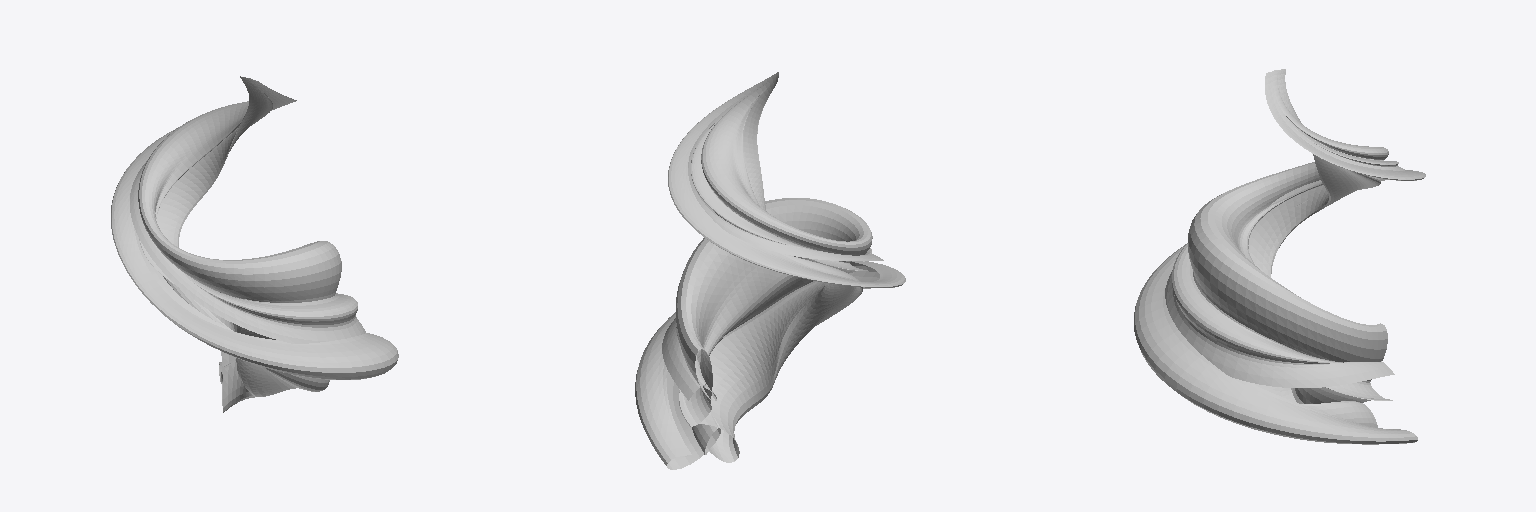
The picture shows the model from 3 angles: view 1: azimuth 30°, elevation 25°; view 2: azimuth 150°, elevation 25°; view 3: azimuth 270°, elevation 25°; orthographic projection.
Visible parts, largest first — view 1: SuperShapesMesh; view 2: SuperShapesMesh; view 3: SuperShapesMesh.
Boxes of the visible parts, x1,y1,x2,y2 form: SuperShapesMesh: [111, 76, 398, 412]; SuperShapesMesh: [635, 72, 905, 469]; SuperShapesMesh: [1134, 69, 1425, 444].
Size of the model in its own units: 53.58 by 78.22 by 57.18.